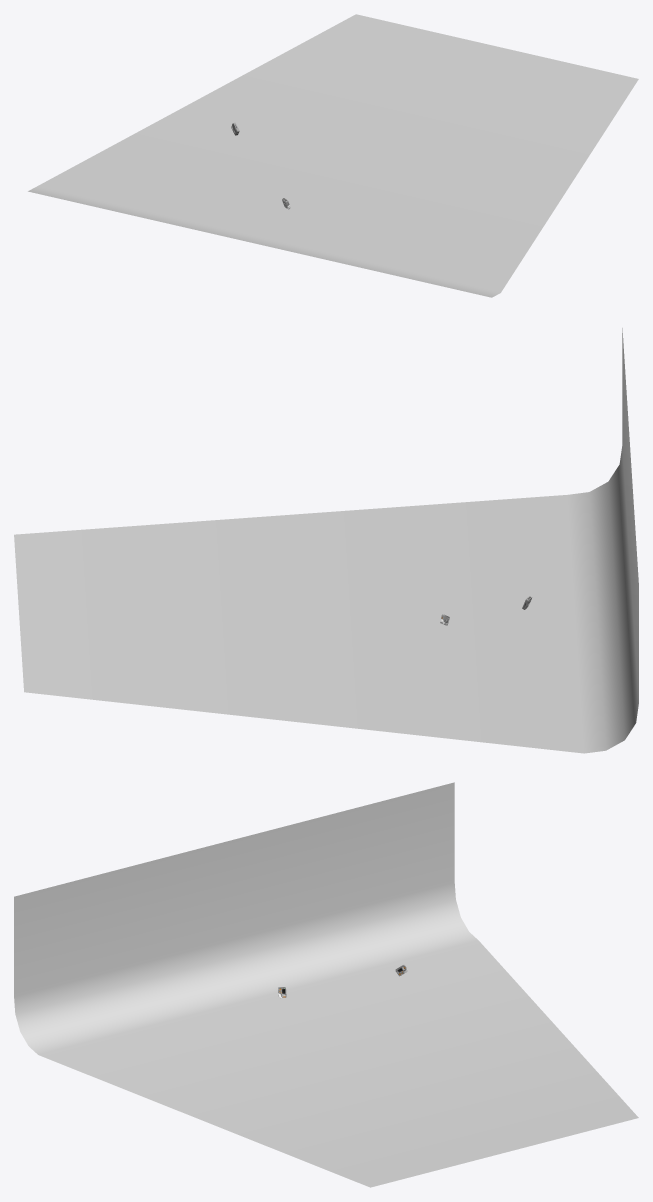
The model's file is luno.glb.
3 views of the same model, one above another, from view 1: azimuth 30°, elevation 25°; view 2: azimuth 150°, elevation 25°; view 3: azimuth 270°, elevation 25° (orthographic). The views are drawn at different scales.
Parts seen in each view (by area): view 1: Plane.004; view 2: Plane.004; view 3: Plane.004.
Part boxes in pixels (x1,y1,x2,y2): Plane.004: [28, 14, 638, 297]; Plane.004: [14, 328, 638, 753]; Plane.004: [14, 782, 638, 1187].
Size of the model in its own units: 243 by 57.76 by 231.
Materials: 18 (8 with a texture image).
